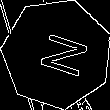N_W: (27, 27, 87, 81)
